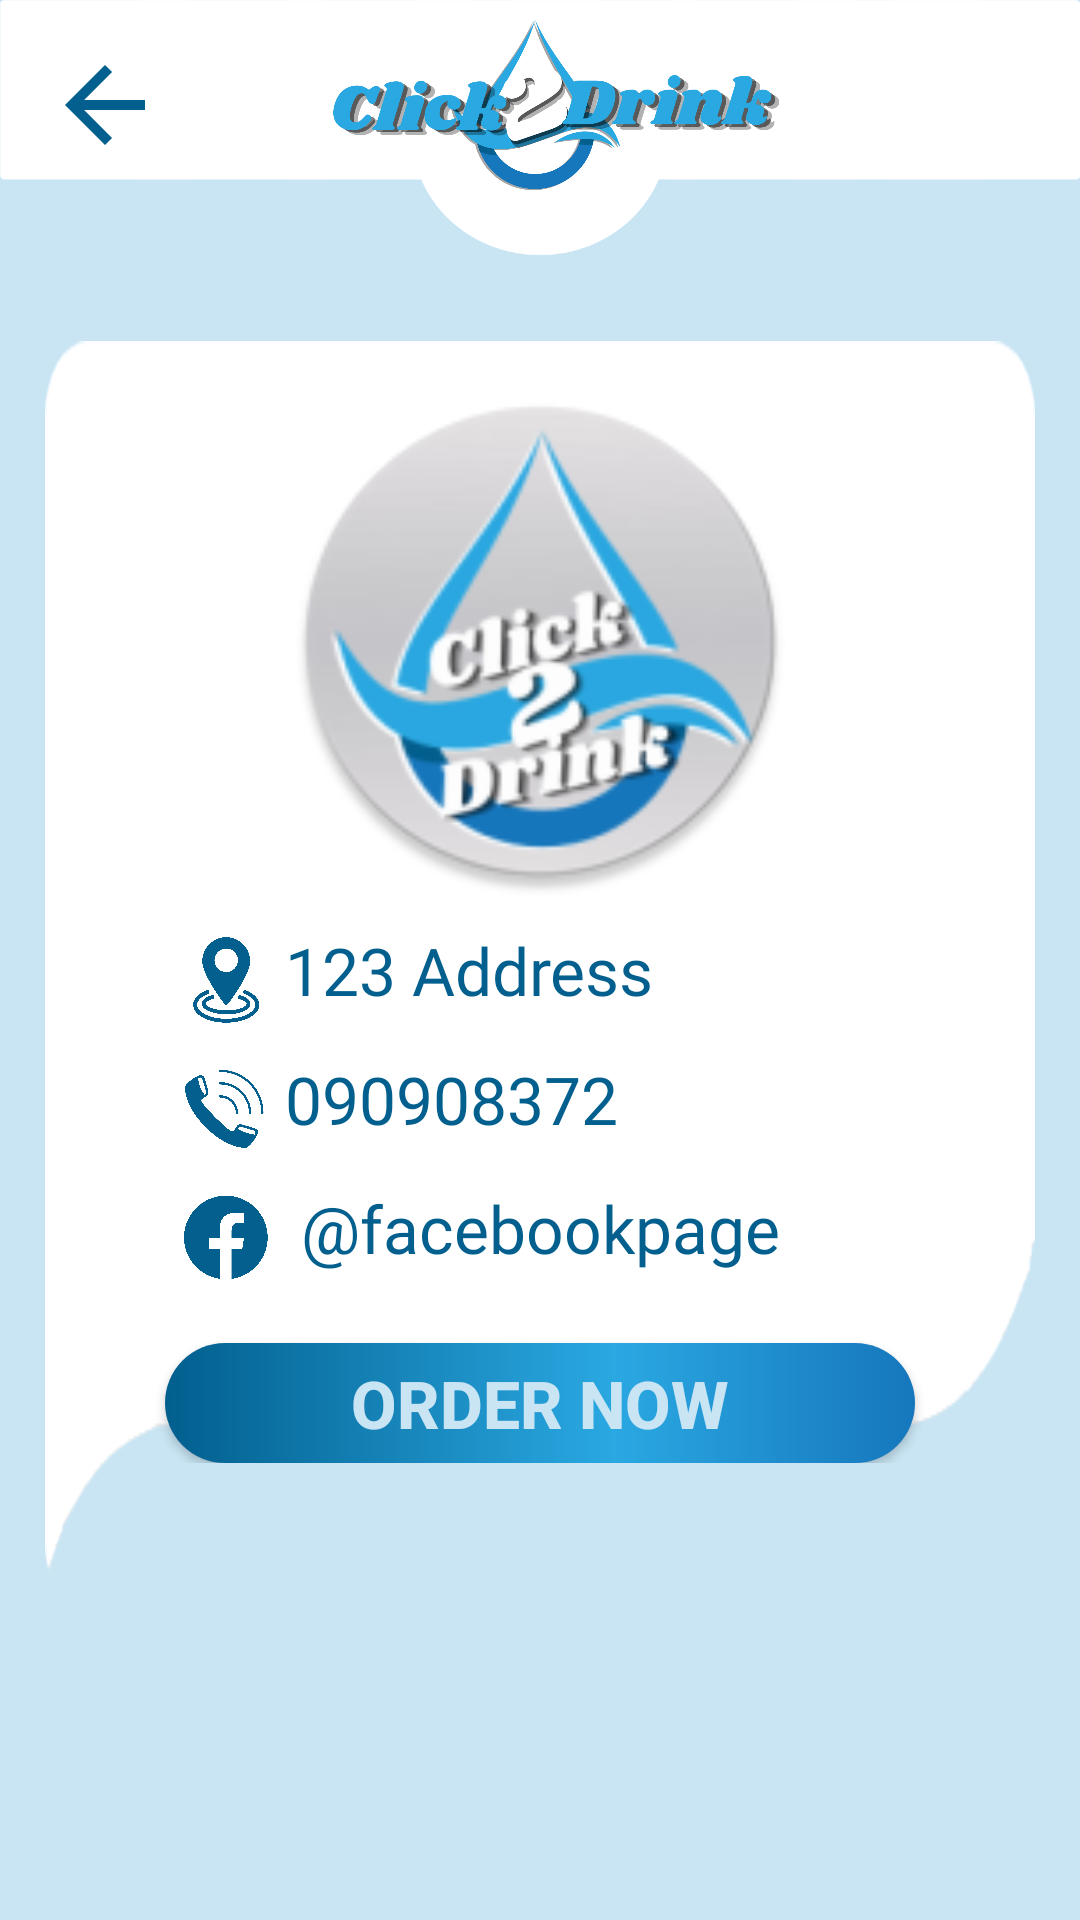

Named icons in this screenshot (1080px x 1920px) and their centers, [x,y]:
back: [105,105]
phone: [224,1109]
